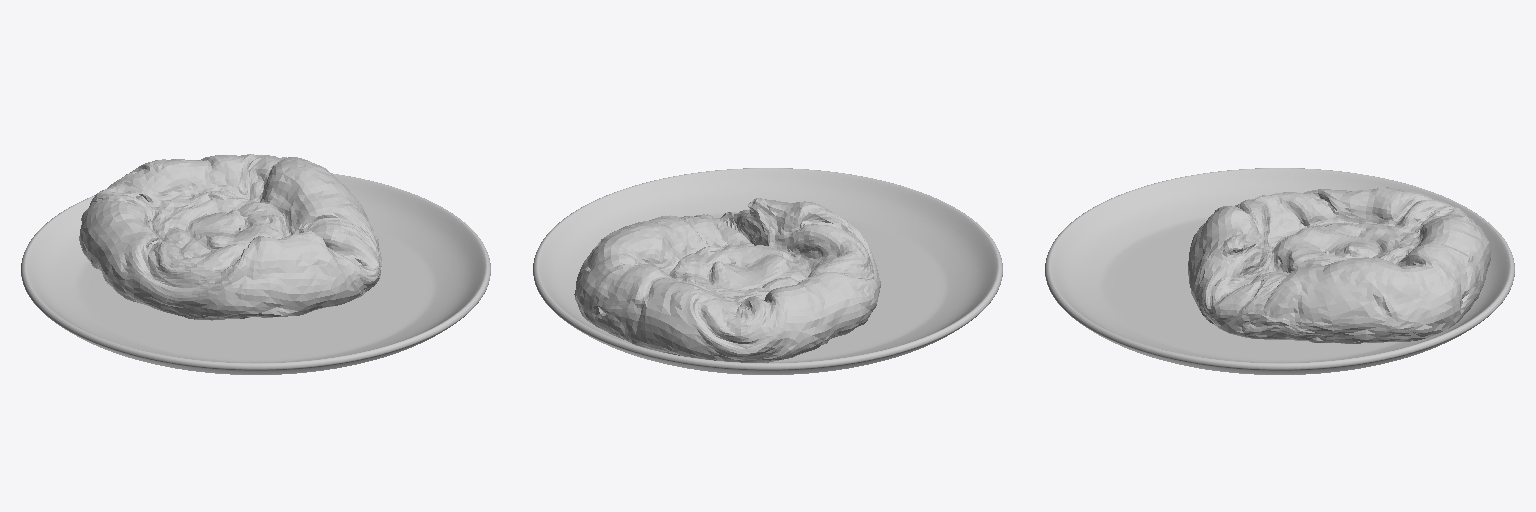
Rendered from BunWithCottageCheese.obj.
The picture shows the model from 3 angles: view 1: azimuth 30°, elevation 25°; view 2: azimuth 150°, elevation 25°; view 3: azimuth 270°, elevation 25°; orthographic projection.
Parts seen in each view (by area): view 1: ZBrush_defualt_group, Cylinder; view 2: ZBrush_defualt_group, Cylinder; view 3: ZBrush_defualt_group, Cylinder.
Boxes of the visible parts, box(x1,y1,x2,y2) form: ZBrush_defualt_group: box(79, 154, 381, 320); Cylinder: box(21, 173, 490, 374); ZBrush_defualt_group: box(574, 198, 880, 362); Cylinder: box(533, 168, 1002, 374); ZBrush_defualt_group: box(1188, 187, 1490, 343); Cylinder: box(1045, 168, 1514, 374).
Size of the model in its own units: 0.1647 by 0.0299 by 0.1647.